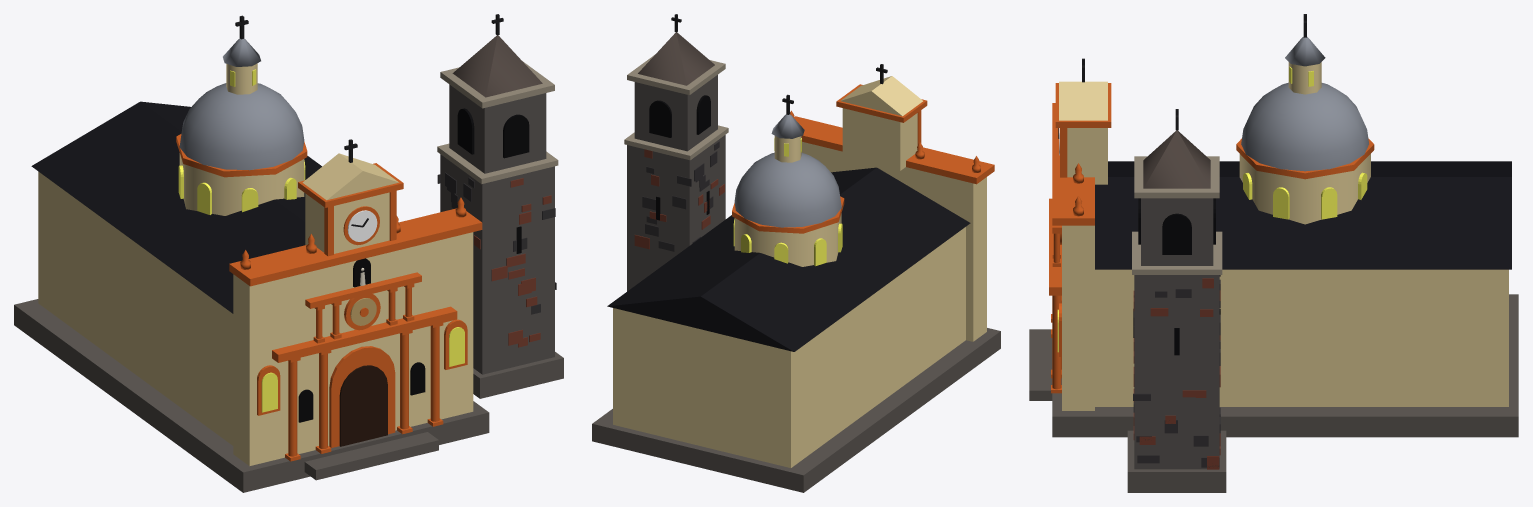
The model's file is iglesia_pintada.obj.
The picture shows the model from 3 angles, left to right: view 1: azimuth 30°, elevation 25°; view 2: azimuth 150°, elevation 25°; view 3: azimuth 270°, elevation 25°; orthographic projection. The views are drawn at different scales.
Visible parts, largest first — view 1: iglesia_pintada; view 2: iglesia_pintada; view 3: iglesia_pintada.
Part boxes in pixels (box(x1,y1,x2,y2)): iglesia_pintada: box(14, 14, 563, 492); iglesia_pintada: box(592, 14, 1000, 492); iglesia_pintada: box(1029, 14, 1518, 492).
Bounding box in the file's own units: 12.8 × 12.17 × 14.9.
